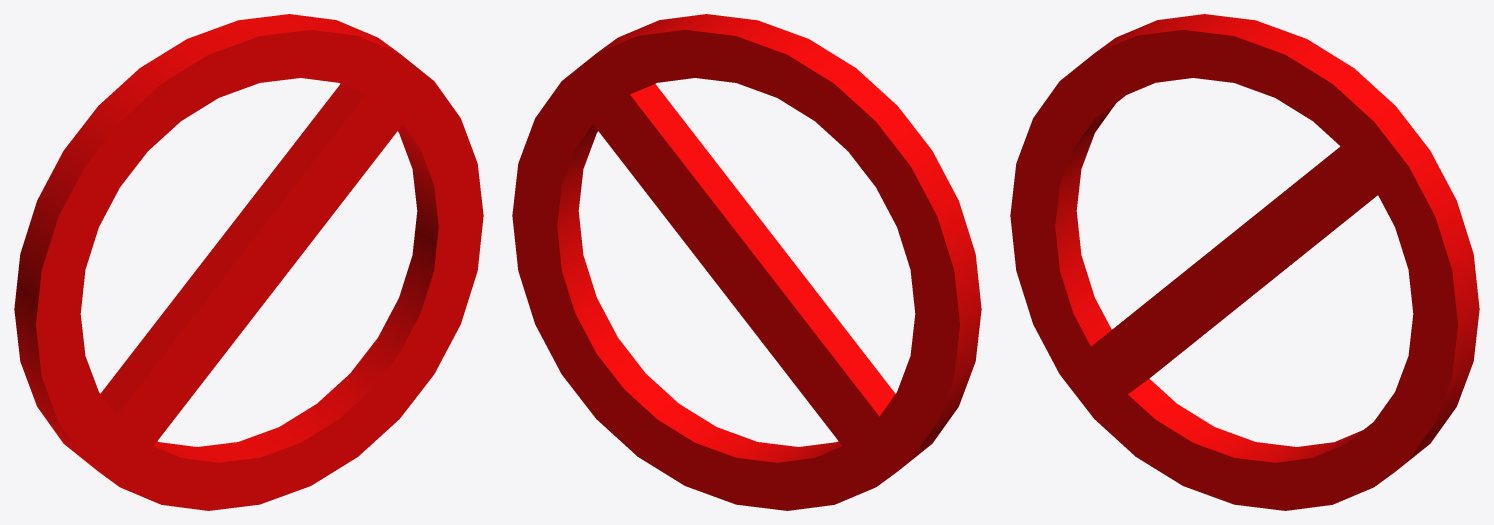
File: #10_Obj_StopMark.FBX
3 renders of one model, left to right at view 1: azimuth 30°, elevation 25°; view 2: azimuth 150°, elevation 25°; view 3: azimuth 330°, elevation 25°, orthographic.
Parts seen in each view (by area): view 1: Stop; view 2: Stop; view 3: Stop.
Part boxes in pixels (x1,y1,x2,y2): Stop: (14,14,483,510); Stop: (512,14,981,510); Stop: (1010,14,1479,510).
Size of the model in its own units: 600 by 50 by 600.
